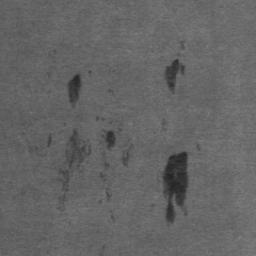Iron scale compression: (62, 129, 92, 197), (163, 153, 187, 228), (165, 58, 185, 94), (67, 75, 80, 104), (108, 132, 115, 148)
